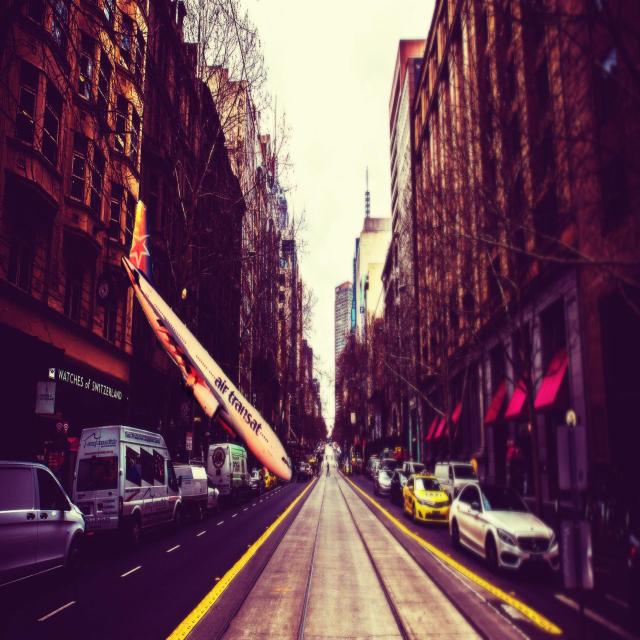airplane: (120, 198, 292, 483)
